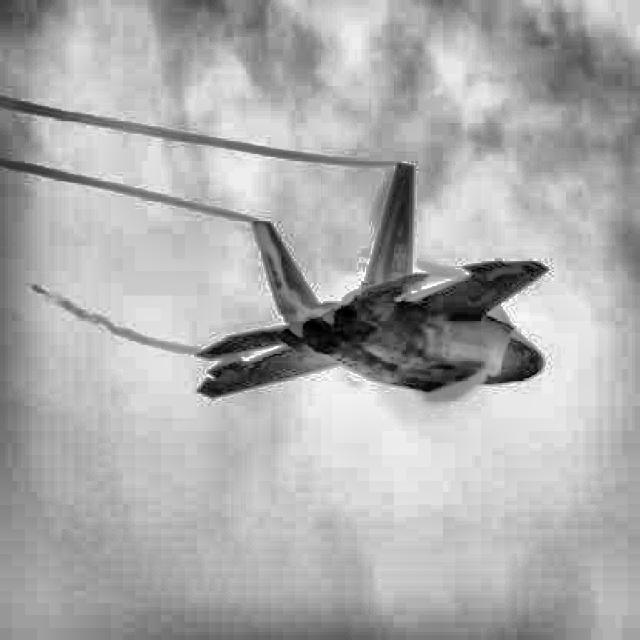F22: (194, 162, 548, 400)
